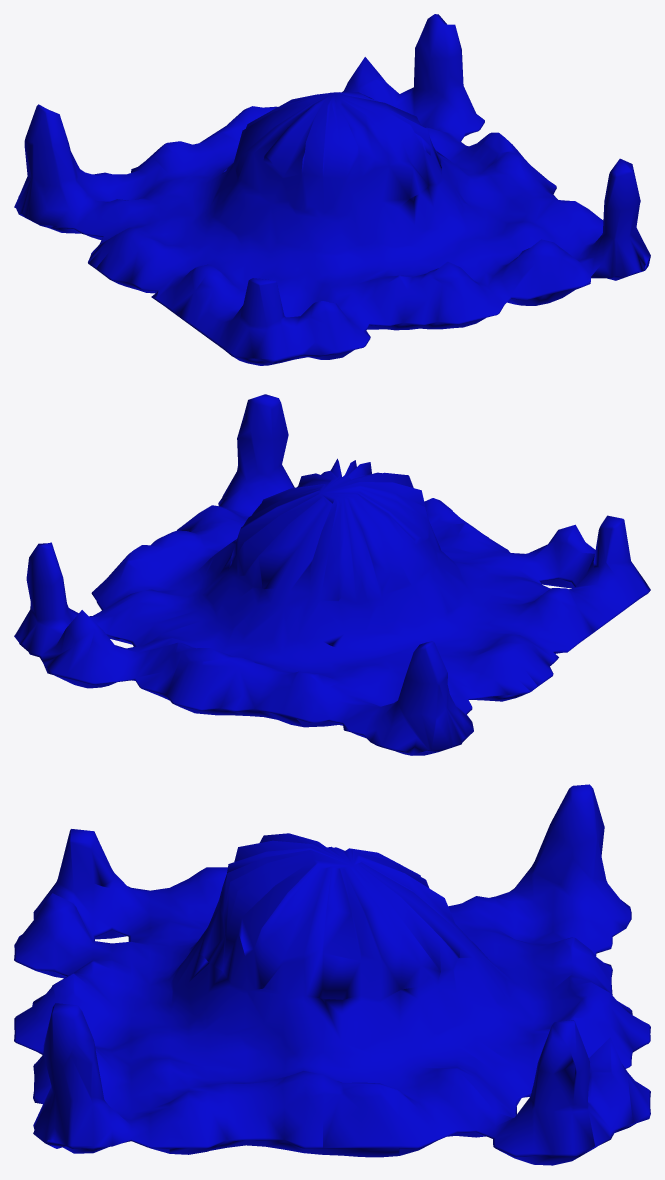
The model's file is mediumSquashEye.obj.
3 renders of one model, top to bottom at view 1: azimuth 30°, elevation 25°; view 2: azimuth 150°, elevation 25°; view 3: azimuth 270°, elevation 25°, orthographic. The views are drawn at different scales.
Parts seen in each view (by area): view 1: Fluid_Domain.003_Cube.007; view 2: Fluid_Domain.003_Cube.007; view 3: Fluid_Domain.003_Cube.007.
Boxes of the visible parts, left/top/right/bottom form: Fluid_Domain.003_Cube.007: left=14, top=14, right=650, bottom=365; Fluid_Domain.003_Cube.007: left=14, top=394, right=650, bottom=755; Fluid_Domain.003_Cube.007: left=14, top=784, right=650, bottom=1165.
Bounding box in the file's own units: 4.73 × 1.61 × 4.73.
